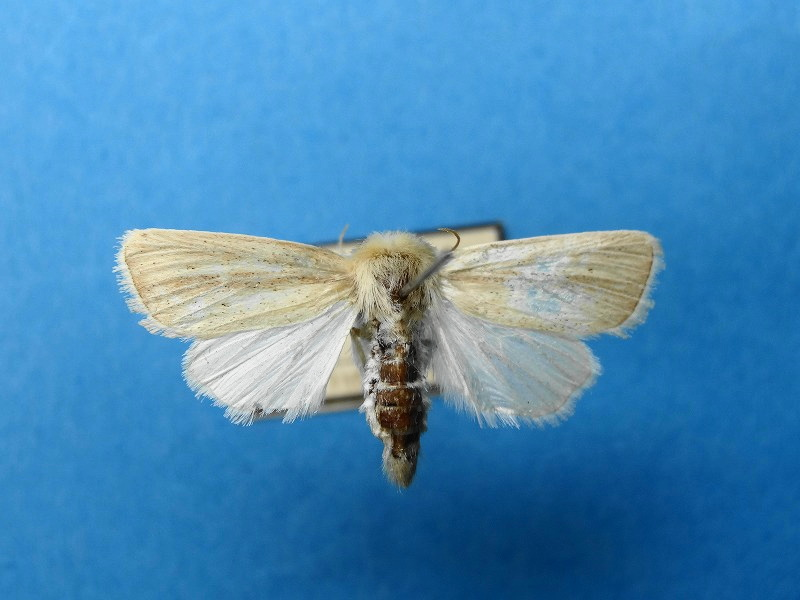Noctuidae: (110, 221, 662, 491)
